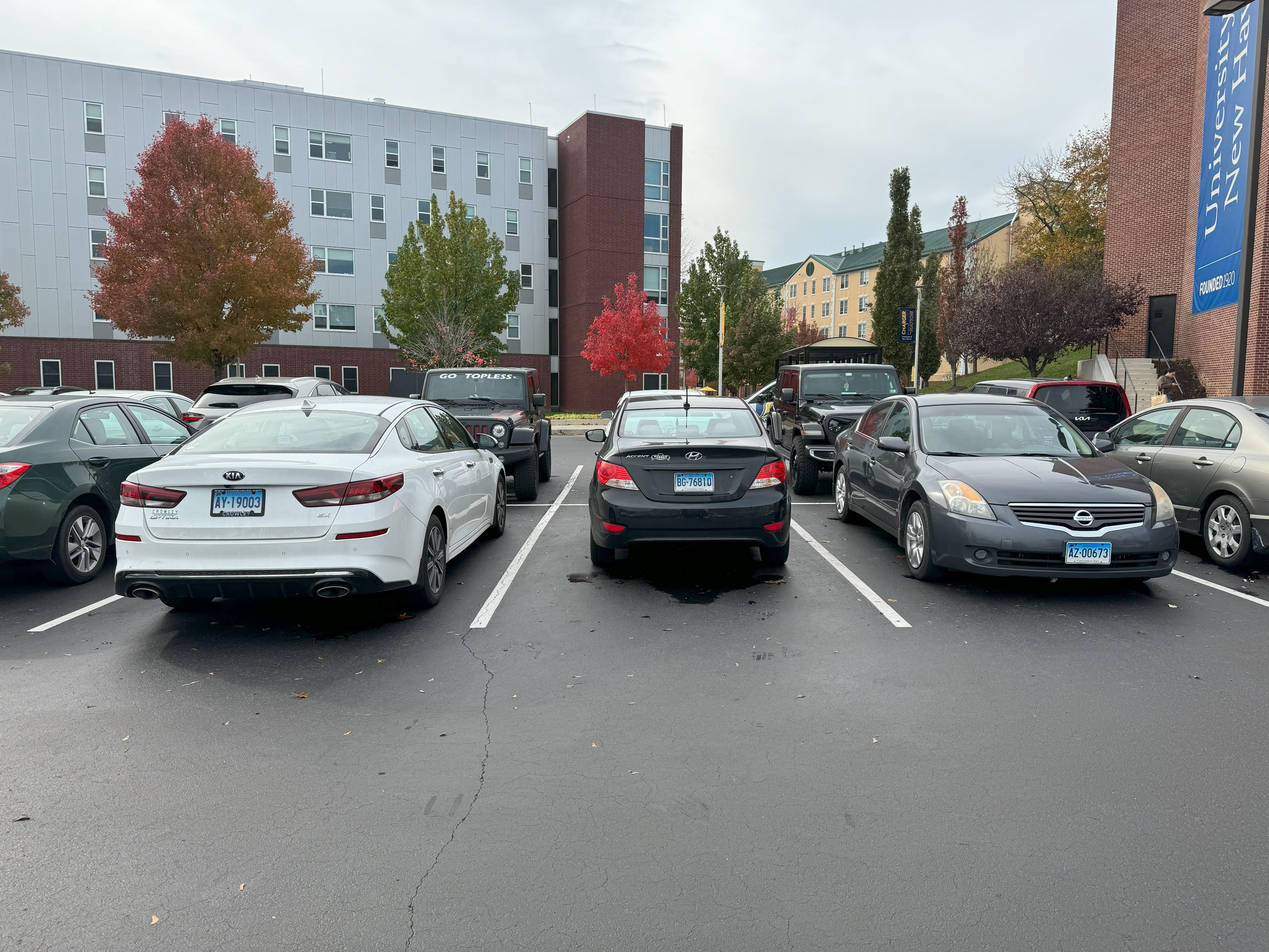occupied: (105, 380, 505, 643), (845, 383, 1175, 618), (549, 383, 811, 597), (1107, 345, 1269, 607), (738, 320, 923, 488), (403, 332, 560, 488), (14, 356, 107, 586)
